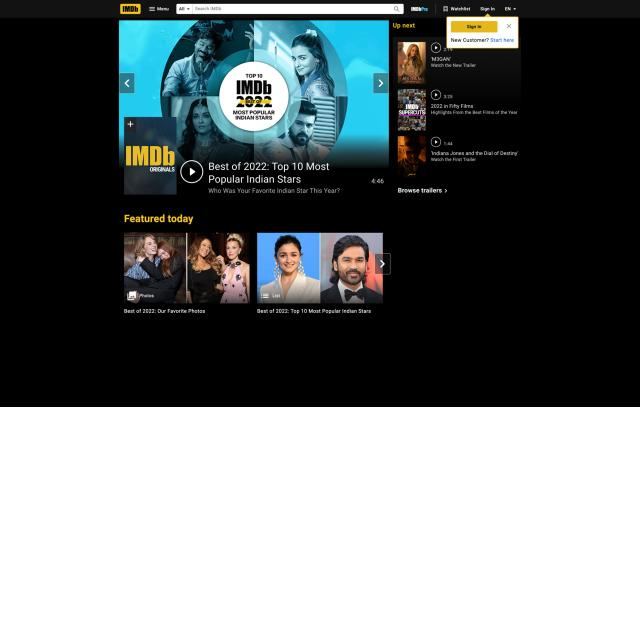input: (176, 3, 404, 15)
logo: (120, 3, 140, 15)
navigation: (373, 72, 389, 94), (374, 253, 390, 274), (120, 74, 134, 94), (148, 5, 170, 13)
